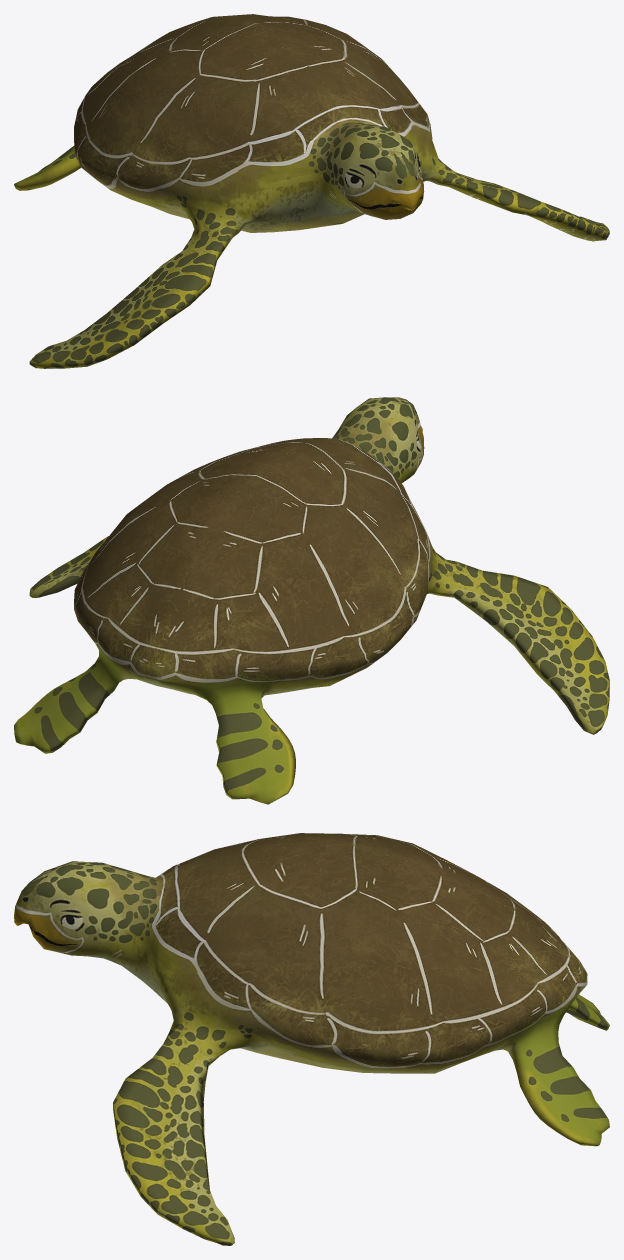
File: Tortuga_PBR.glb
3 views of the same model, one above another, from view 1: azimuth 30°, elevation 25°; view 2: azimuth 150°, elevation 25°; view 3: azimuth 270°, elevation 25° (orthographic). The views are drawn at different scales.
Visible parts, largest first — view 1: Tortuga_MAIN_Geo; view 2: Tortuga_MAIN_Geo; view 3: Tortuga_MAIN_Geo.
Part boxes in pixels (x1,y1,x2,y2): Tortuga_MAIN_Geo: (14, 14, 609, 368); Tortuga_MAIN_Geo: (14, 397, 609, 804); Tortuga_MAIN_Geo: (14, 833, 609, 1245).
Size of the model in its own units: 9.04 by 3.56 by 7.56.
1 material, 1 textured.
